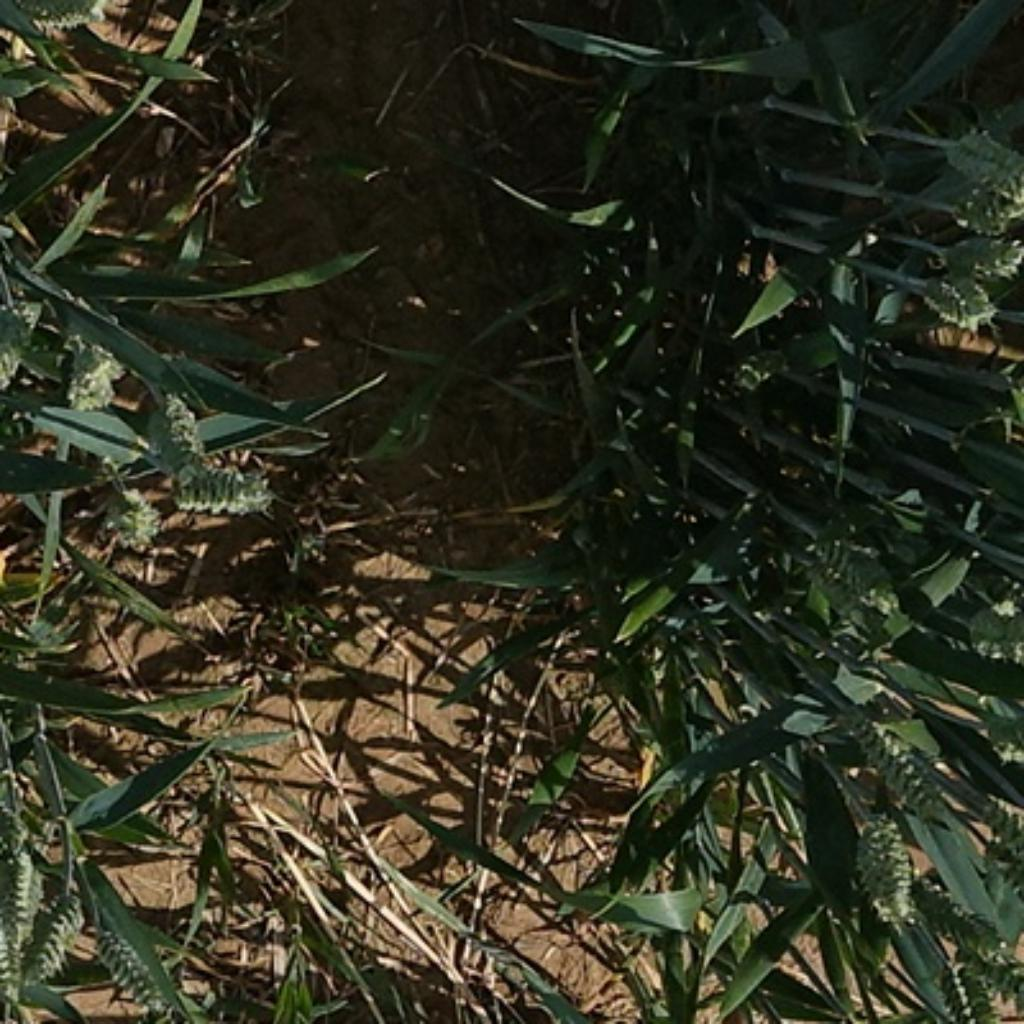0-0: (904, 872, 1024, 1001), (798, 519, 913, 640), (837, 704, 944, 803), (163, 445, 281, 520), (844, 803, 921, 916), (89, 917, 170, 1011), (711, 326, 806, 406), (31, 878, 91, 997), (908, 263, 1003, 337), (135, 384, 209, 478), (947, 112, 1024, 194), (936, 942, 1008, 1024), (88, 486, 167, 560), (931, 215, 1024, 276), (947, 176, 1021, 248), (56, 332, 122, 409), (960, 598, 1024, 676), (0, 831, 40, 944), (971, 785, 1024, 870), (0, 294, 43, 391), (10, 0, 122, 36), (975, 706, 1024, 776), (0, 928, 37, 1011)
